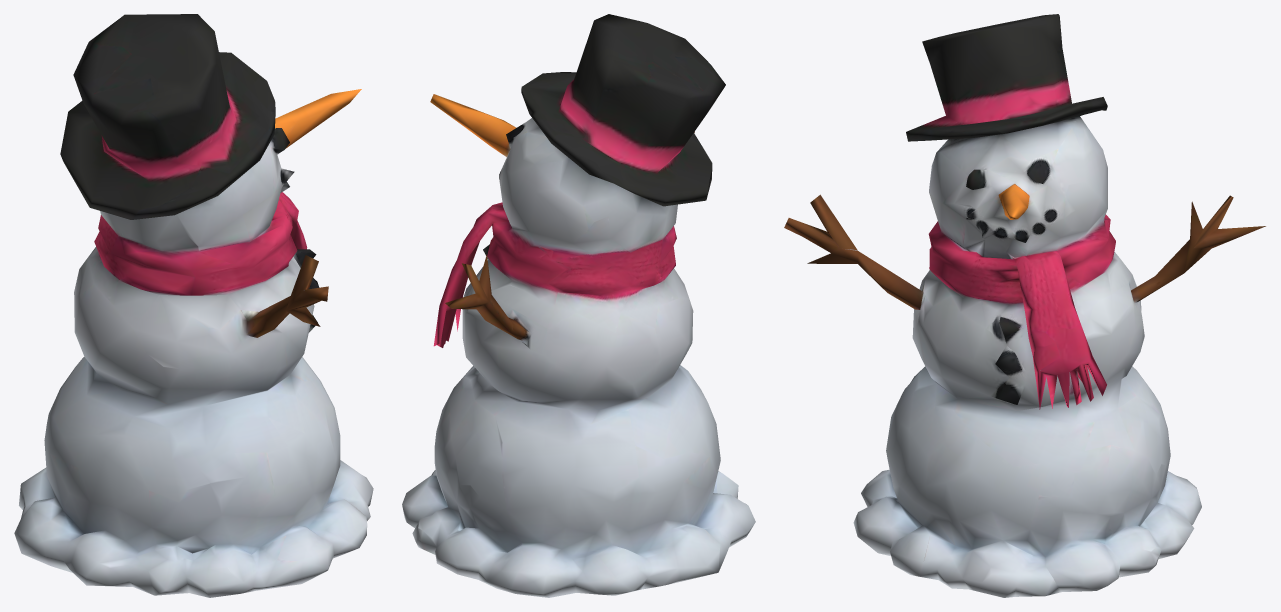
File: snowman.glb
3 renders of one model, left to right at view 1: azimuth 30°, elevation 25°; view 2: azimuth 150°, elevation 25°; view 3: azimuth 270°, elevation 25°, orthographic. The views are drawn at different scales.
Visible parts, largest first — view 1: tripo_node_502cbc23-5313-4b01-b9b9-32d90bbf24c1; view 2: tripo_node_502cbc23-5313-4b01-b9b9-32d90bbf24c1; view 3: tripo_node_502cbc23-5313-4b01-b9b9-32d90bbf24c1.
Boxes of the visible parts, box(x1,y1,x2,y2) form: tripo_node_502cbc23-5313-4b01-b9b9-32d90bbf24c1: box(14, 14, 373, 597); tripo_node_502cbc23-5313-4b01-b9b9-32d90bbf24c1: box(402, 14, 755, 597); tripo_node_502cbc23-5313-4b01-b9b9-32d90bbf24c1: box(784, 14, 1265, 597).
Bounding box in the file's own units: 0.6377 × 1 × 0.8793.
Materials: 1 (1 with a texture image).
